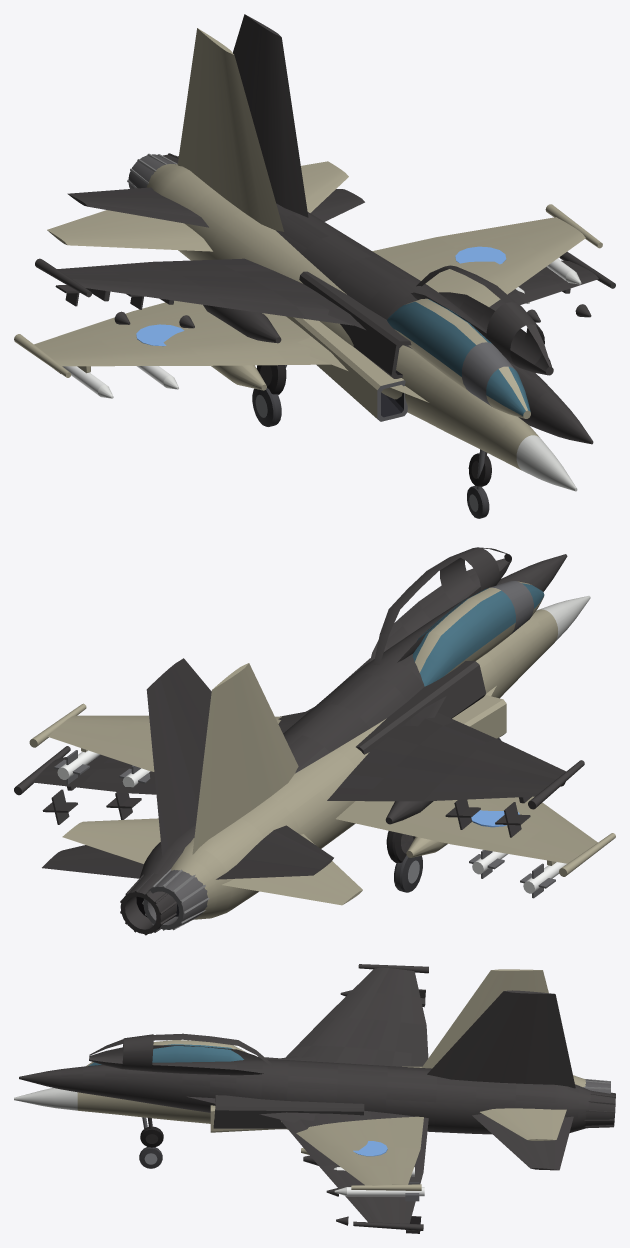
The model's file is lightFighter__fa_50.glb.
3 renders of one model, top to bottom at view 1: azimuth 30°, elevation 25°; view 2: azimuth 150°, elevation 25°; view 3: azimuth 270°, elevation 25°, orthographic. The views are drawn at different scales.
Visible parts, largest first — view 1: Fuselage_Mesh, Wreck; view 2: Fuselage_Mesh, Wreck; view 3: Wreck, Fuselage_Mesh.
Boxes of the visible parts, x1,y1,x2,y2 form: Fuselage_Mesh: [14, 28, 602, 518]; Wreck: [35, 14, 615, 486]; Fuselage_Mesh: [29, 581, 615, 930]; Wreck: [14, 547, 584, 935]; Wreck: [19, 964, 615, 1233]; Fuselage_Mesh: [14, 969, 610, 1201].
Size of what is drawn, in the model's own units: 9.85 by 4.82 by 13.28.
